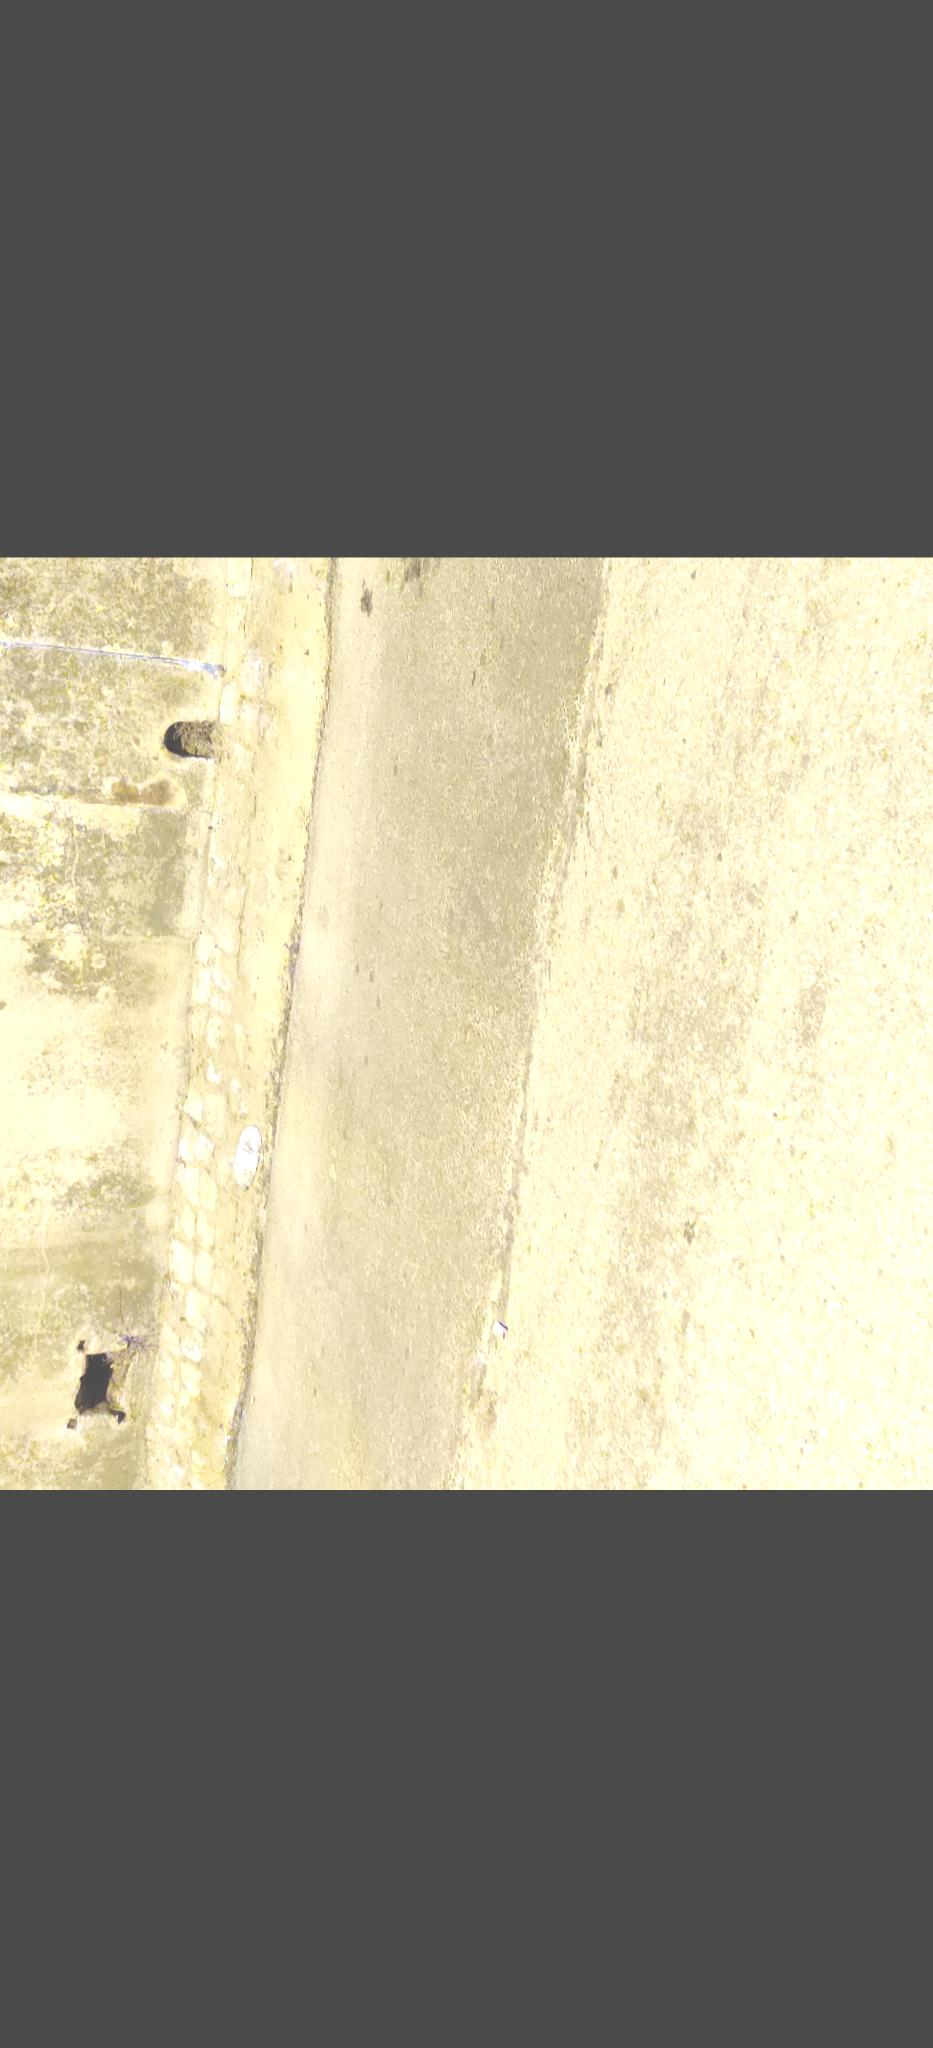bottle: (227, 1119, 264, 1200)
